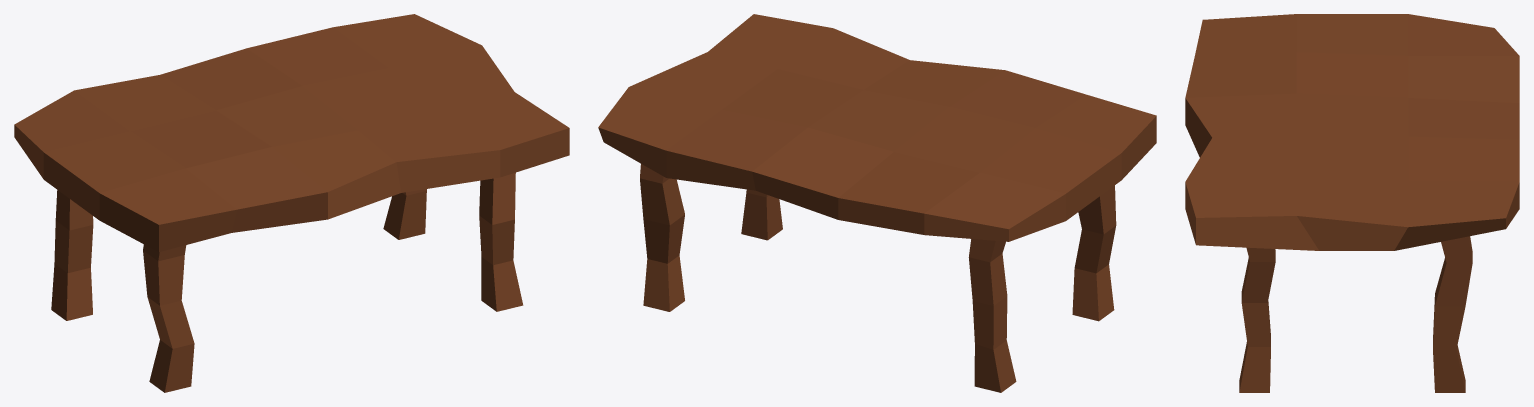
Rendered from Table01.fbx.
3 views of the same model, side by side, from view 1: azimuth 30°, elevation 25°; view 2: azimuth 150°, elevation 25°; view 3: azimuth 270°, elevation 25° (orthographic).
Visible parts, largest first — view 1: Cube.001; view 2: Cube.001; view 3: Cube.001.
Boxes of the visible parts, x1,y1,x2,y2 form: Cube.001: (14, 14, 569, 392); Cube.001: (598, 14, 1156, 392); Cube.001: (1185, 14, 1519, 392).
Size of the model in its own units: 264 by 110 by 175.
